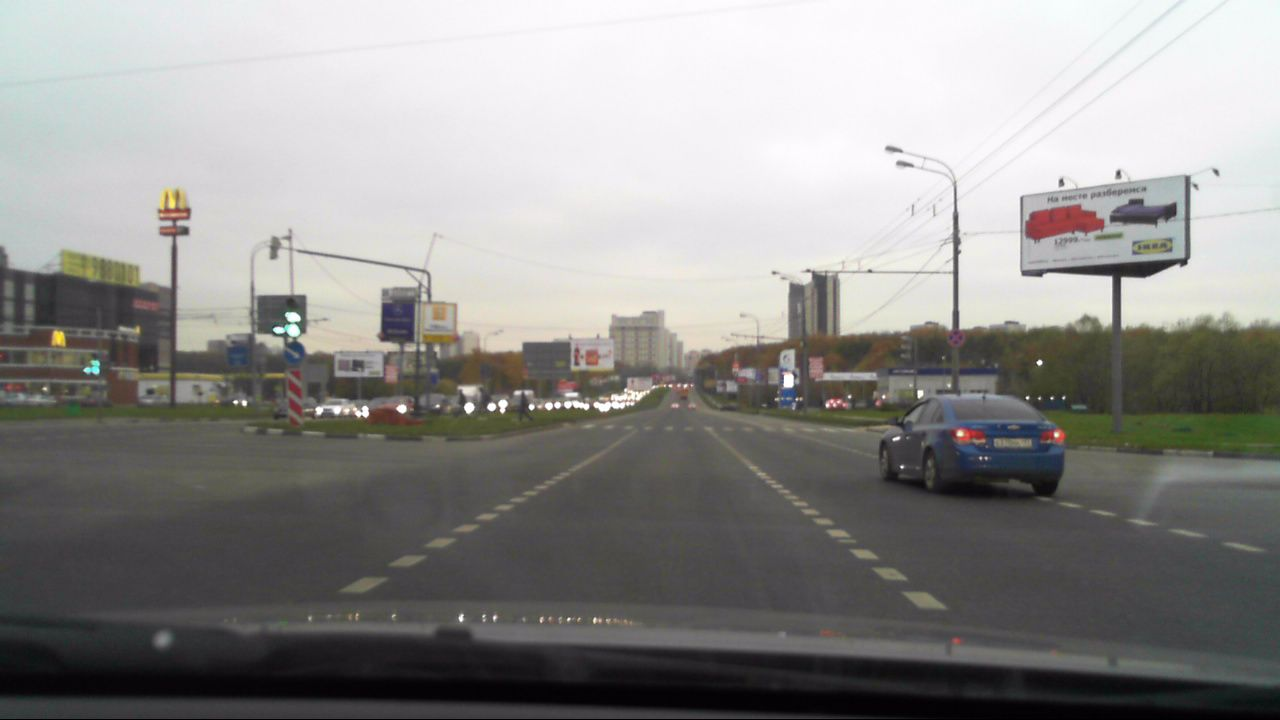No Parking: (945, 328, 964, 347)
